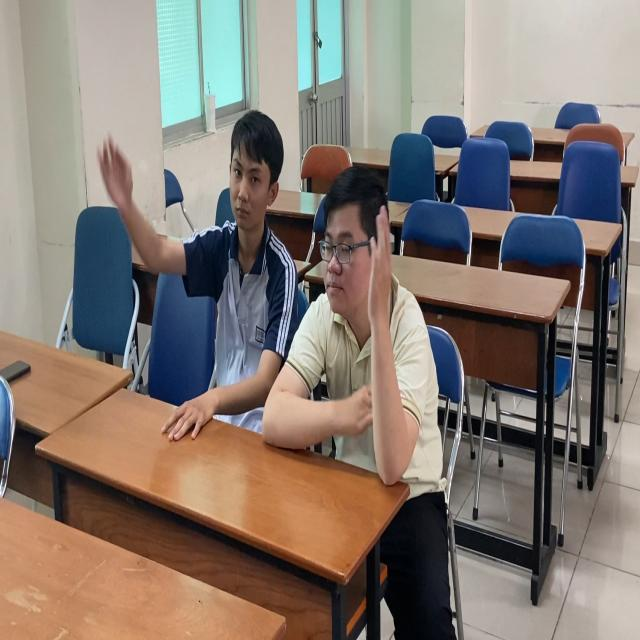raise_hand: (99, 110, 294, 425), (303, 164, 443, 495)
